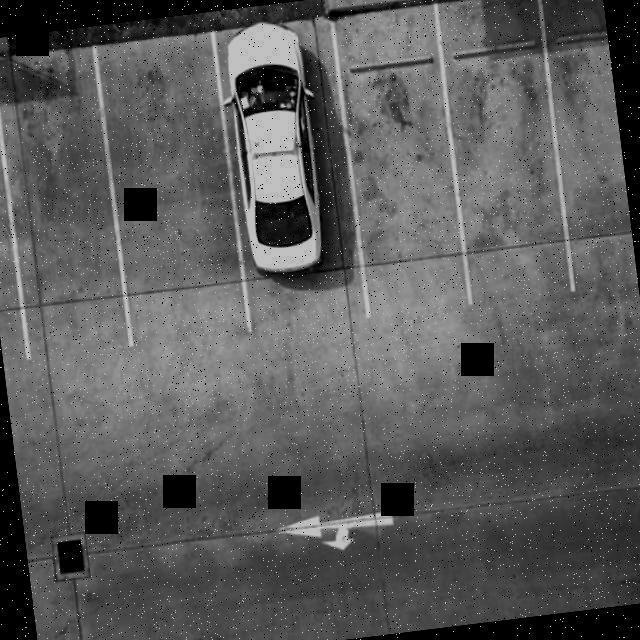space-empty: (91, 28, 255, 364), (326, 0, 477, 325), (427, 0, 581, 312), (0, 42, 136, 368), (531, 0, 637, 291)
space-occupied: (209, 13, 373, 347)
